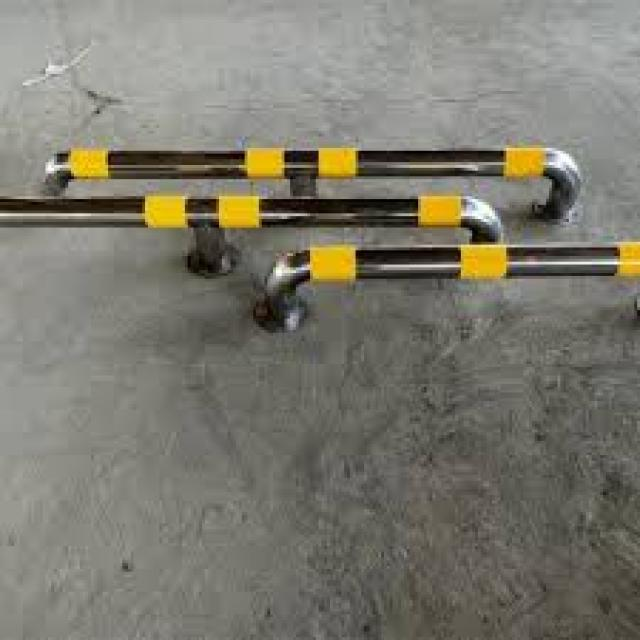bollard: (29, 137, 603, 232), (1, 191, 514, 277), (246, 237, 640, 348)
